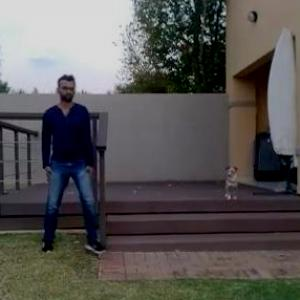follow: (38, 74, 91, 244)
